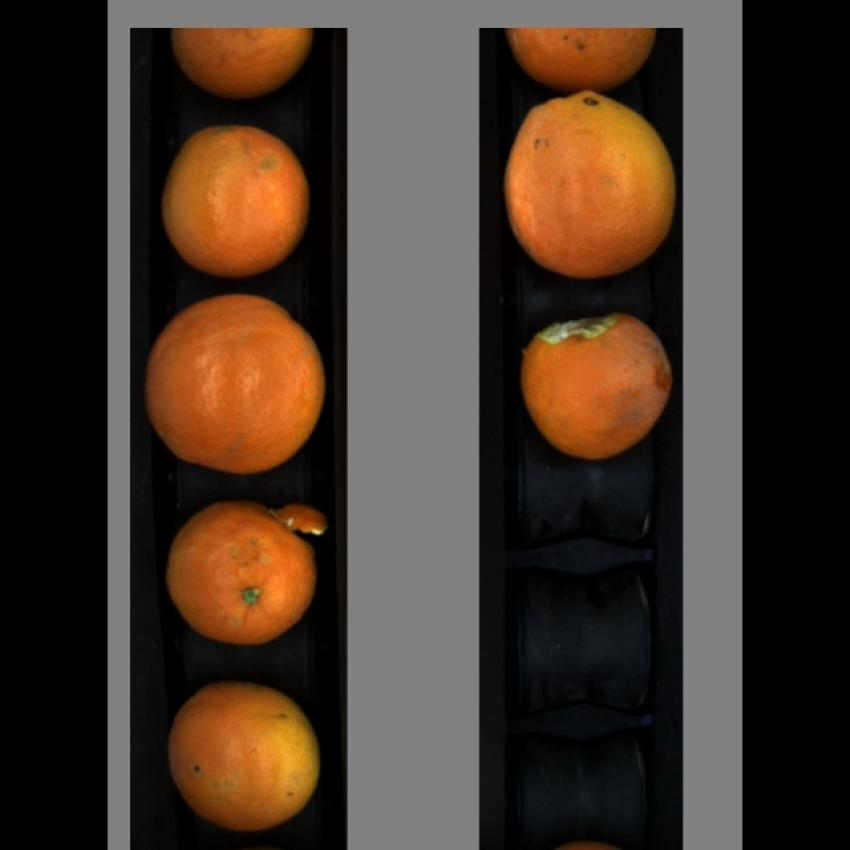Buen estado: (158, 124, 320, 280), (165, 678, 325, 828), (163, 31, 320, 99)
Mal estado: (501, 92, 683, 285), (143, 287, 324, 477), (510, 306, 680, 468), (162, 495, 336, 648), (502, 24, 659, 92)
